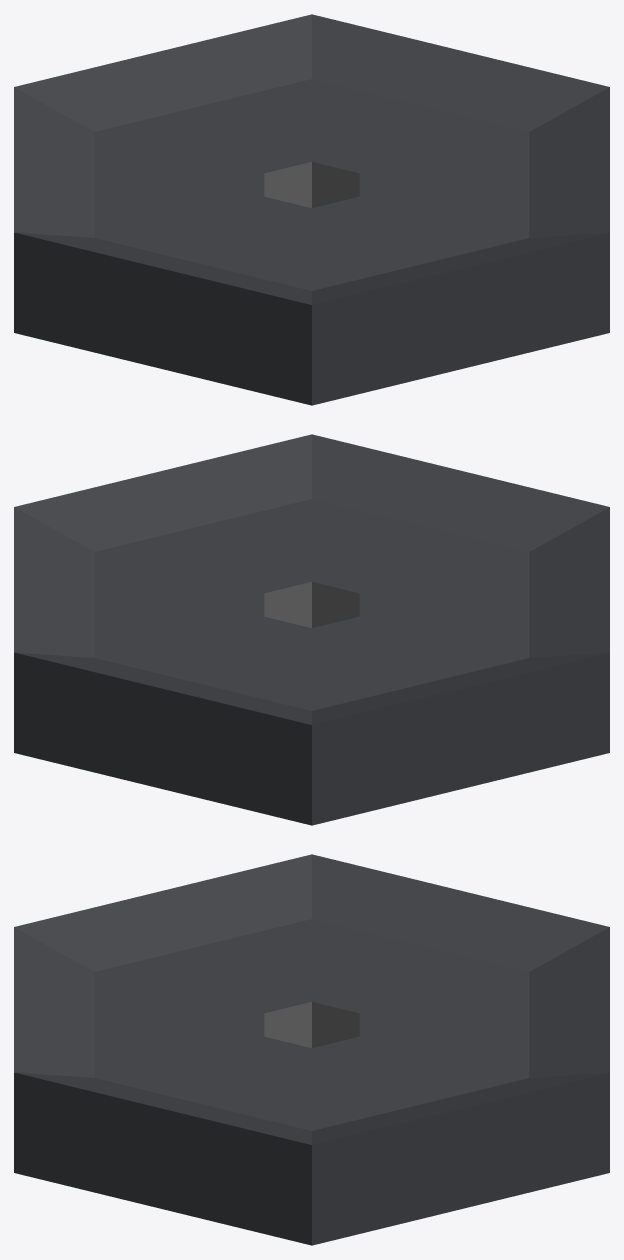
File: Plate.fbx
3 renders of one model, top to bottom at view 1: azimuth 30°, elevation 25°; view 2: azimuth 150°, elevation 25°; view 3: azimuth 270°, elevation 25°, orthographic.
Parts seen in each view (by area): view 1: plate; view 2: plate; view 3: plate.
Part boxes in pixels (bbox=[...]): plate: bbox=[14, 14, 609, 405]; plate: bbox=[14, 434, 609, 825]; plate: bbox=[14, 854, 609, 1245].
Size of the model in its own units: 42.93 by 6.92 by 37.17.
